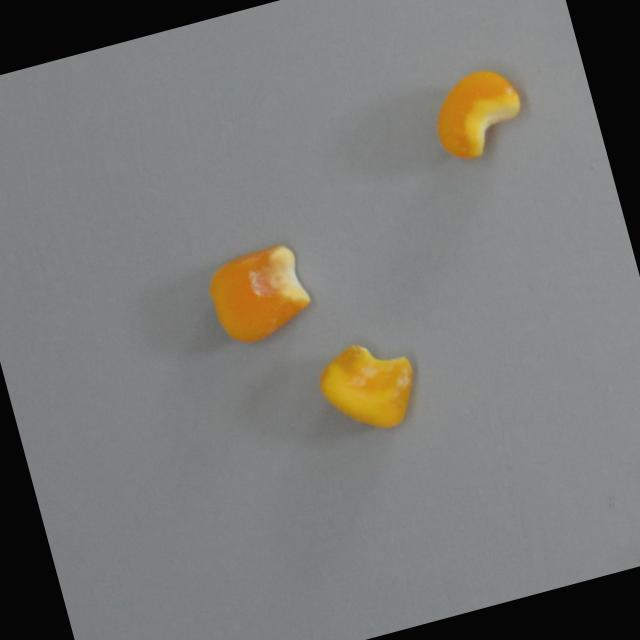no_canjicado: (199, 239, 317, 350), (422, 61, 531, 167)
pelicula: (310, 329, 425, 443)
